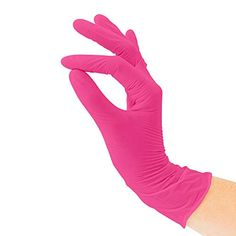gloves: (55, 12, 210, 231)
